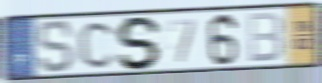6: (206, 11, 240, 67)
7: (166, 18, 198, 65)
B: (246, 10, 285, 65)
C: (77, 19, 119, 71)
S: (115, 15, 164, 72), (36, 18, 76, 75)
